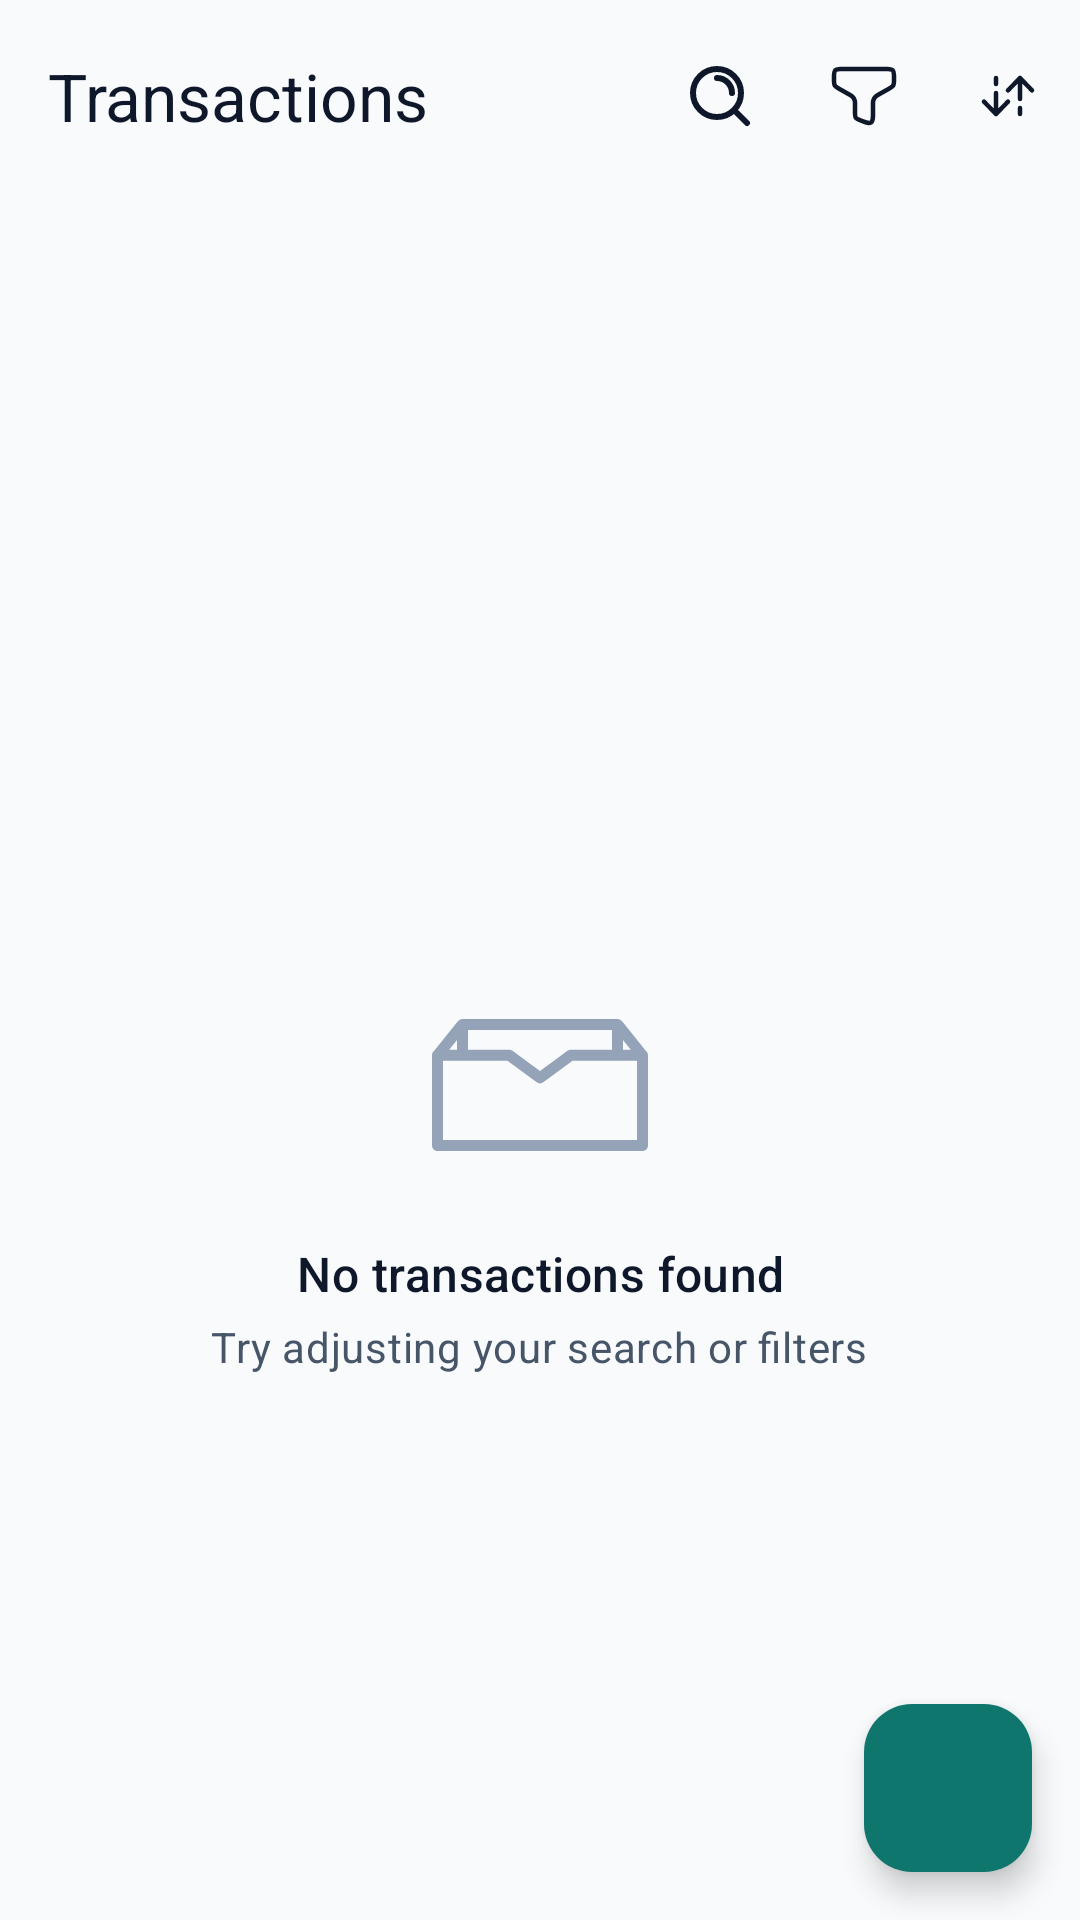

Where icons sit on this 1080×1920 app screen, as [left=x1, top=y1, right=x2, bottom=y2]:
Empty state illustration: [left=432, top=1019, right=648, bottom=1151]
